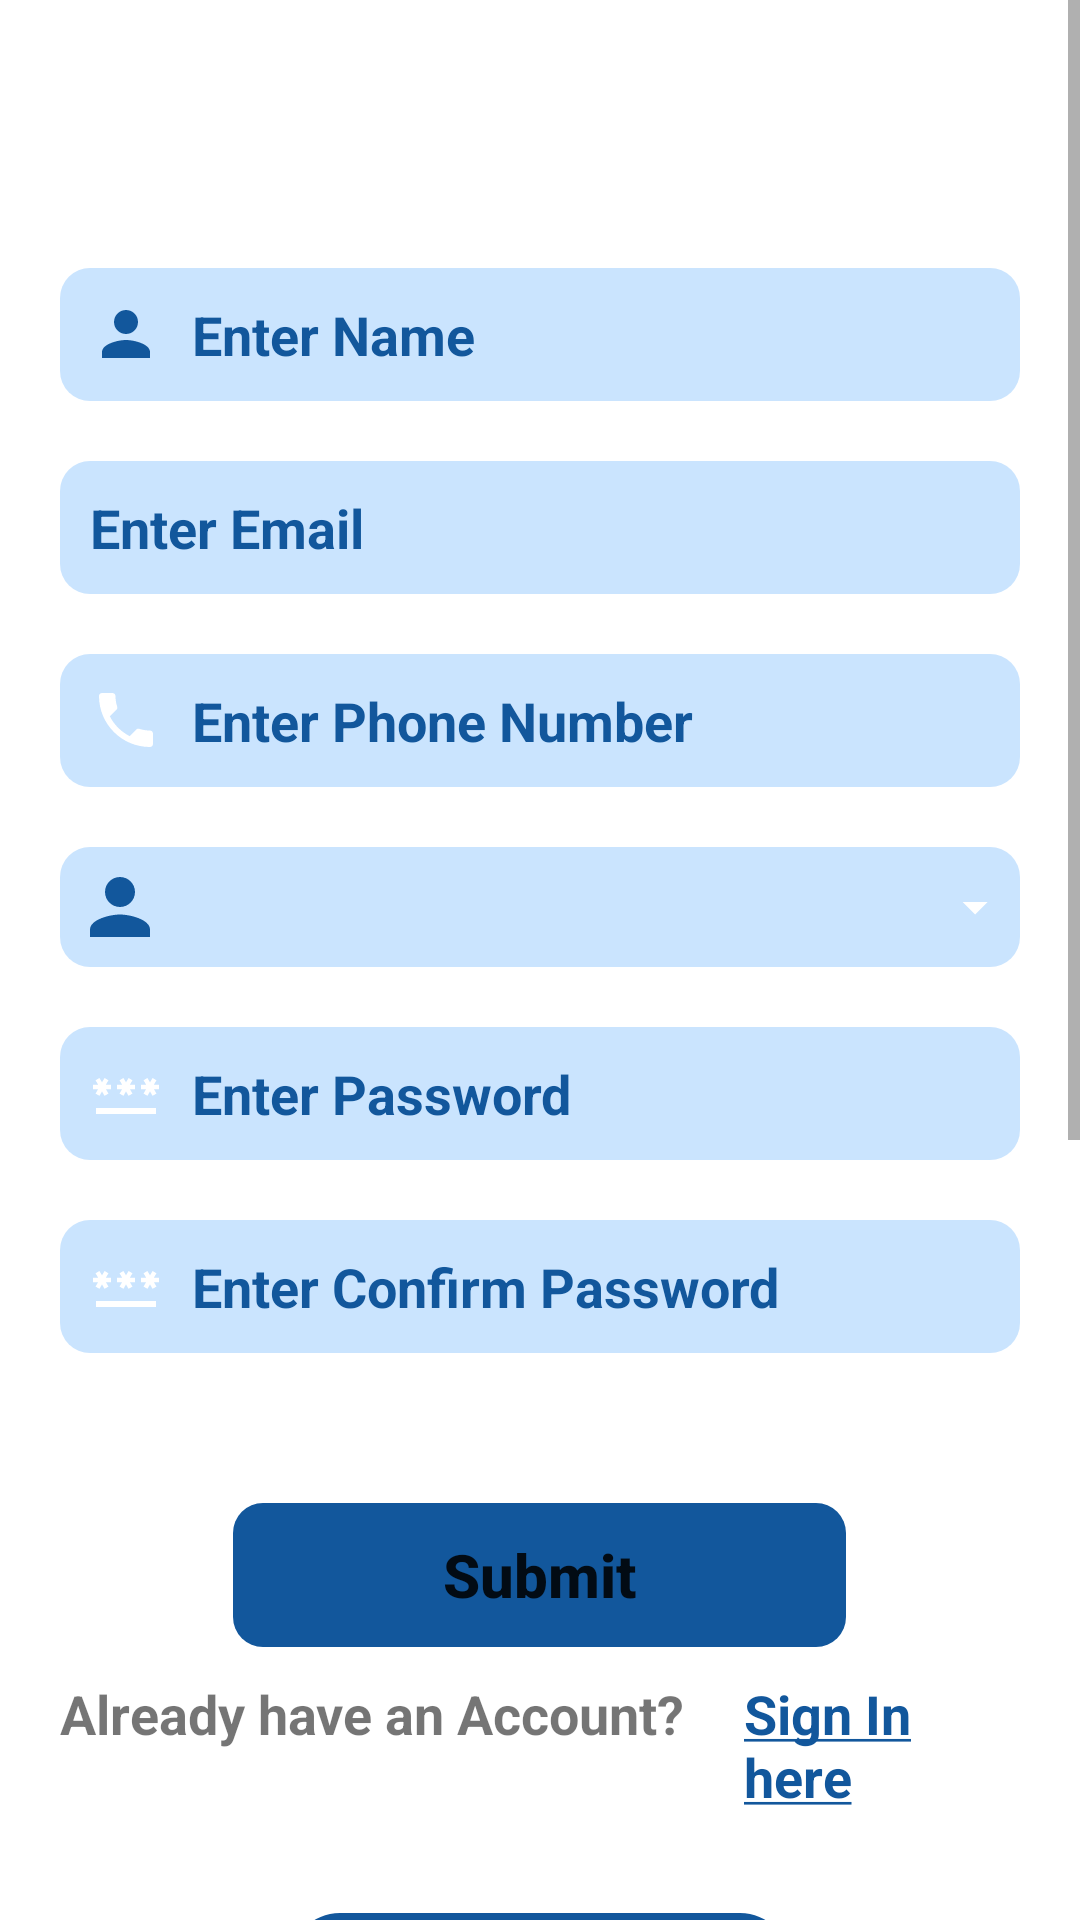

Point at icon controls on the screen. Image size 1080px x 1920px, points as (x,y).
spinner down arrow: (975,908)
